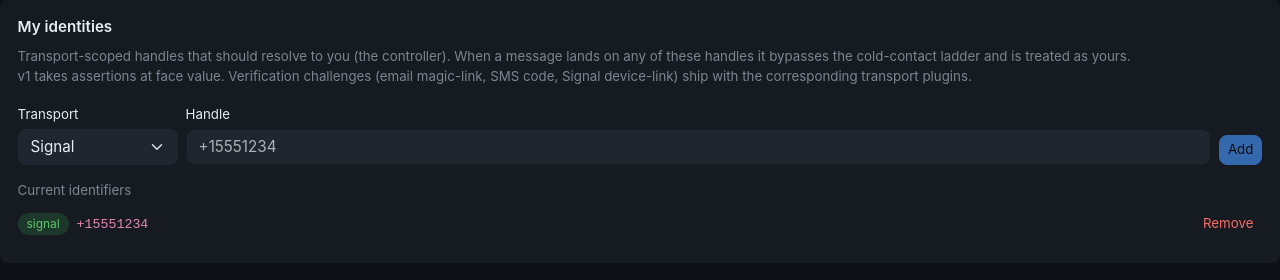
Test case: MyIdentitiesPage › delete confirms then removes the row
Check: the text "+15551234" is shown, box [76,217,148,232]
Click the button with test id "my-identities-delete" at (1228, 224), box [1194,209,1262,239]
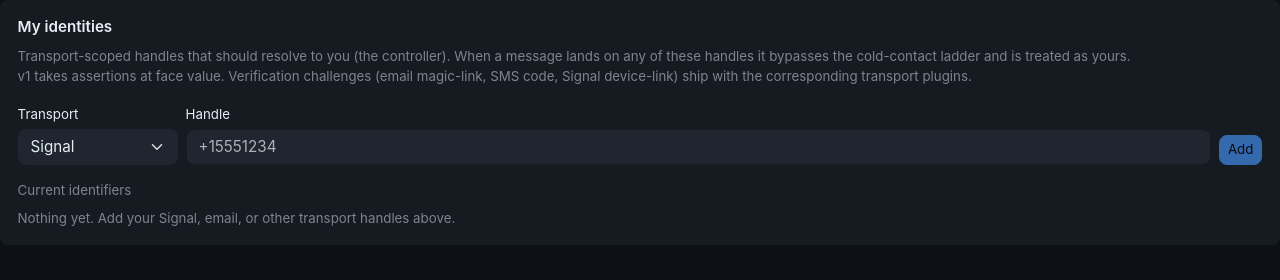
Check: the text with test id "my-identities-empty" is shown, box [18,210,455,226]
